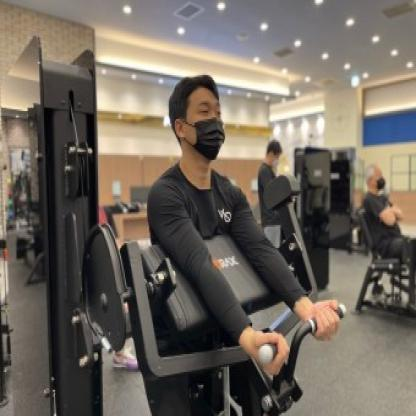arm curl machine: (6, 222, 348, 416)
